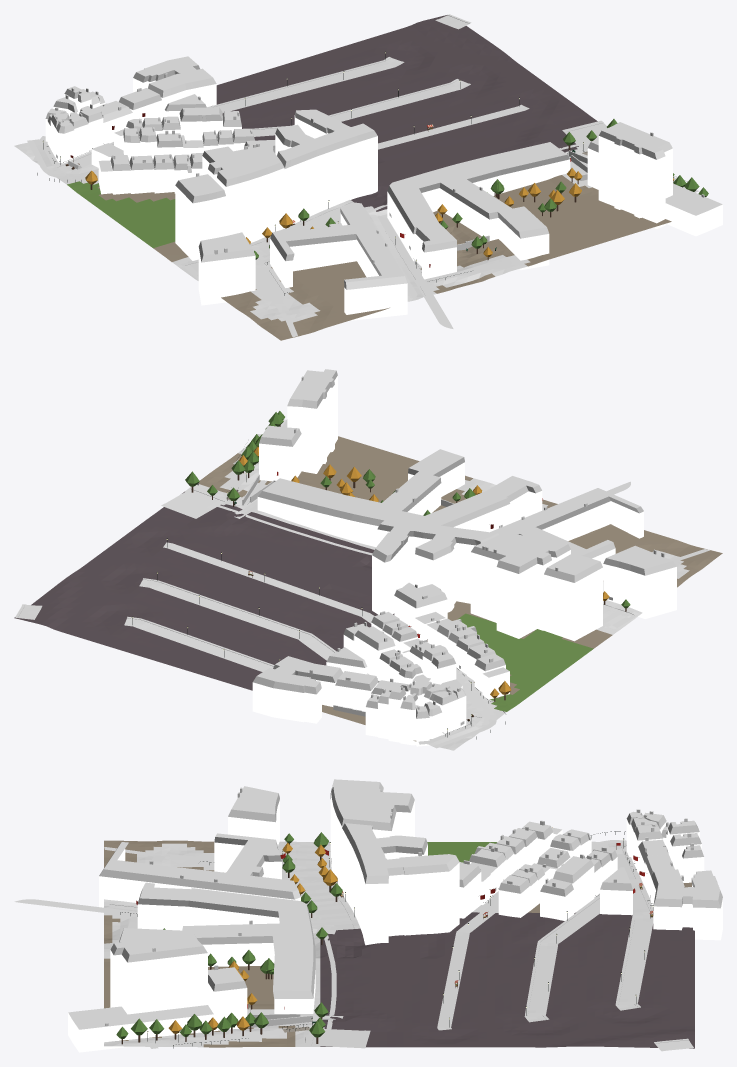
File: zone_F7.glb
3 renders of one model, top to bottom at view 1: azimuth 30°, elevation 25°; view 2: azimuth 150°, elevation 25°; view 3: azimuth 270°, elevation 25°, orthographic. The views are drawn at different scales.
Parts seen in each view (by area): view 1: zone_F7_batiments, zone_F7_terrain, zone_F7_sol_NOCOL, zone_F7_decor_NOCOL; view 2: zone_F7_batiments, zone_F7_terrain, zone_F7_sol_NOCOL, zone_F7_decor_NOCOL; view 3: zone_F7_batiments, zone_F7_terrain, zone_F7_sol_NOCOL, zone_F7_decor_NOCOL.
Boxes of the visible parts, box(x1,y1,x2,y2) form: zone_F7_batiments: box(45, 56, 722, 320); zone_F7_terrain: box(14, 15, 685, 340); zone_F7_sol_NOCOL: box(27, 14, 698, 337); zone_F7_decor_NOCOL: box(37, 51, 708, 295); zone_F7_batiments: box(242, 369, 676, 746); zone_F7_terrain: box(14, 419, 722, 750); zone_F7_sol_NOCOL: box(15, 434, 709, 748); zone_F7_decor_NOCOL: box(132, 411, 630, 739); zone_F7_batiments: box(68, 779, 722, 1052); zone_F7_terrain: box(104, 840, 694, 1048); zone_F7_sol_NOCOL: box(14, 840, 693, 1051); zone_F7_decor_NOCOL: box(116, 827, 653, 1048).
Size of the model in its own units: 212 by 44.72 by 255.
